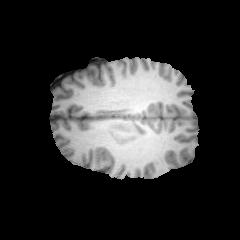glioma: (107, 122, 144, 145)
